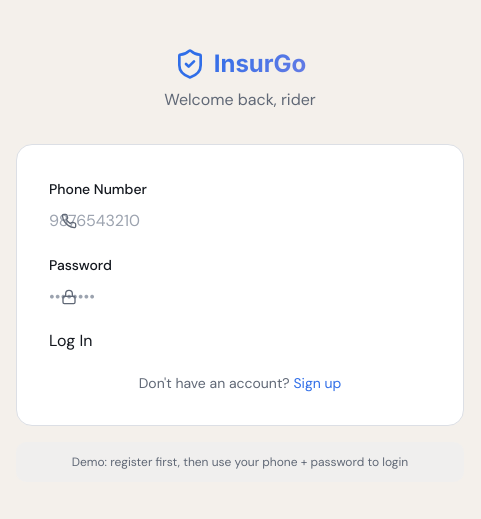
it: Login page › shows an error message when login fails
The image size is (481, 519).
Type "bad" into the field with placeholder "9876543210" at x=143, y=221, box [49,209,237,233]
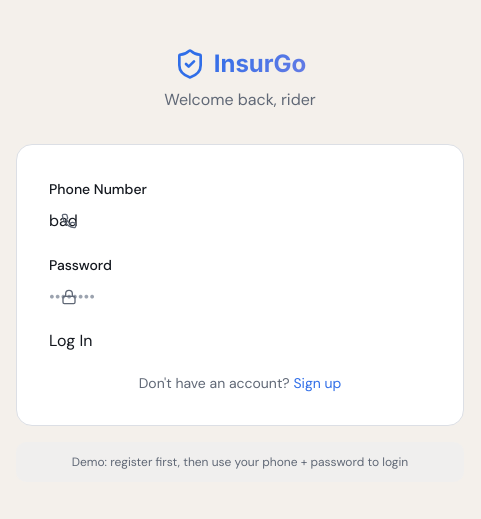
Type "bad" into the password field with placeholder "••••••••" at x=143, y=297, box [49,285,237,309]
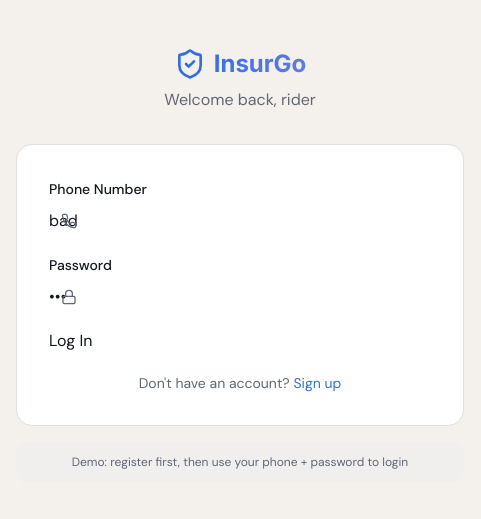
Submit the form "Phone Number Password Log In Don't have an account? Sign up", box [16,144,464,426]
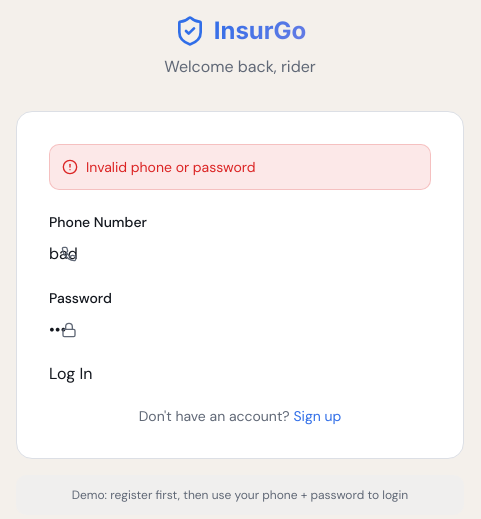
Check: the text "Invalid phone or password" is shown, box [49,144,431,190]
